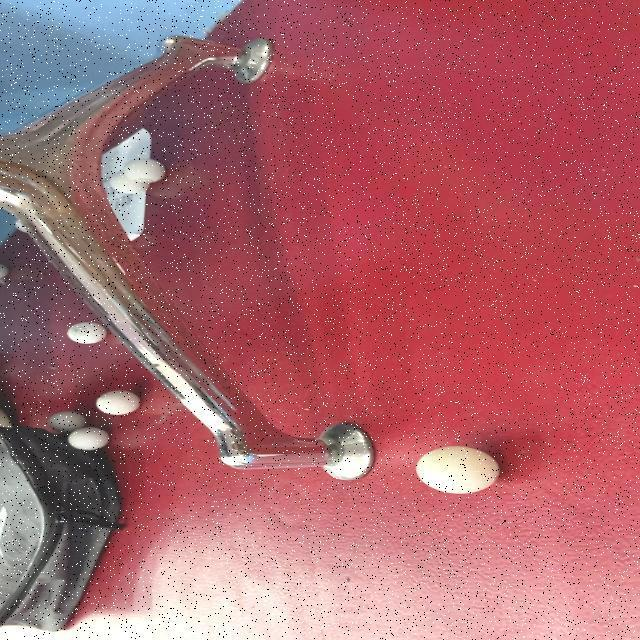ping-pong-ball: (410, 443, 502, 497), (91, 386, 146, 416), (117, 156, 172, 186), (64, 424, 114, 454), (62, 318, 112, 344)
